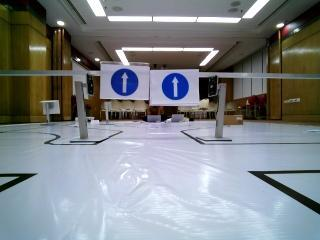straight: (149, 69, 200, 106), (101, 60, 148, 99)
